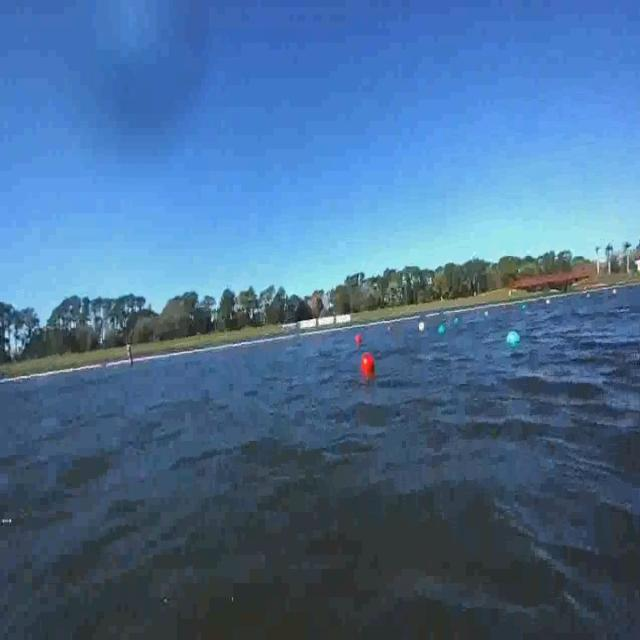green-buoy: (507, 330, 522, 349), (437, 326, 445, 338)
red-buoy: (361, 352, 374, 375), (356, 334, 362, 346)
yellow-buoy: (418, 323, 426, 335)
